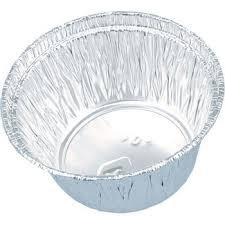metal: (1, 10, 225, 213)
